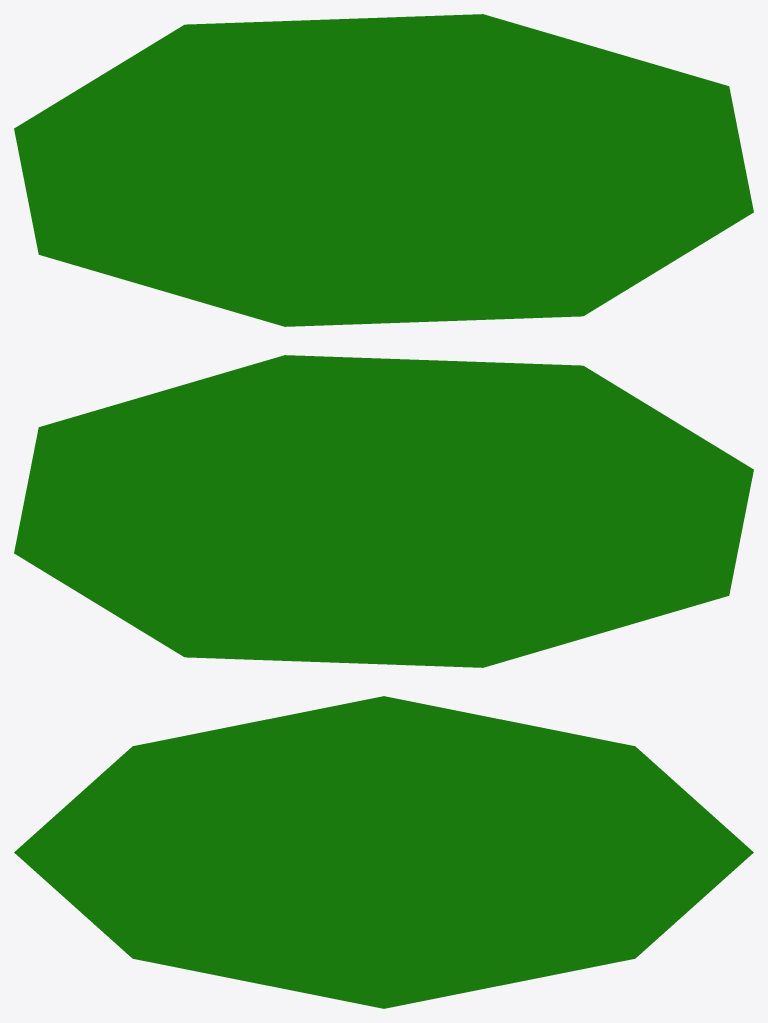
The picture shows the model from 3 angles, top to bottom: view 1: azimuth 30°, elevation 25°; view 2: azimuth 150°, elevation 25°; view 3: azimuth 270°, elevation 25°; orthographic projection. The views are drawn at different scales.
Parts seen in each view (by area): view 1: Node; view 2: Node; view 3: Node.
Boxes of the visible parts, x1,y1,x2,y2 form: Node: (14, 14, 753, 326); Node: (14, 355, 753, 667); Node: (14, 696, 753, 1008).
Bounding box in the file's own units: 0.9157 × 1.49e-07 × 0.9157.
